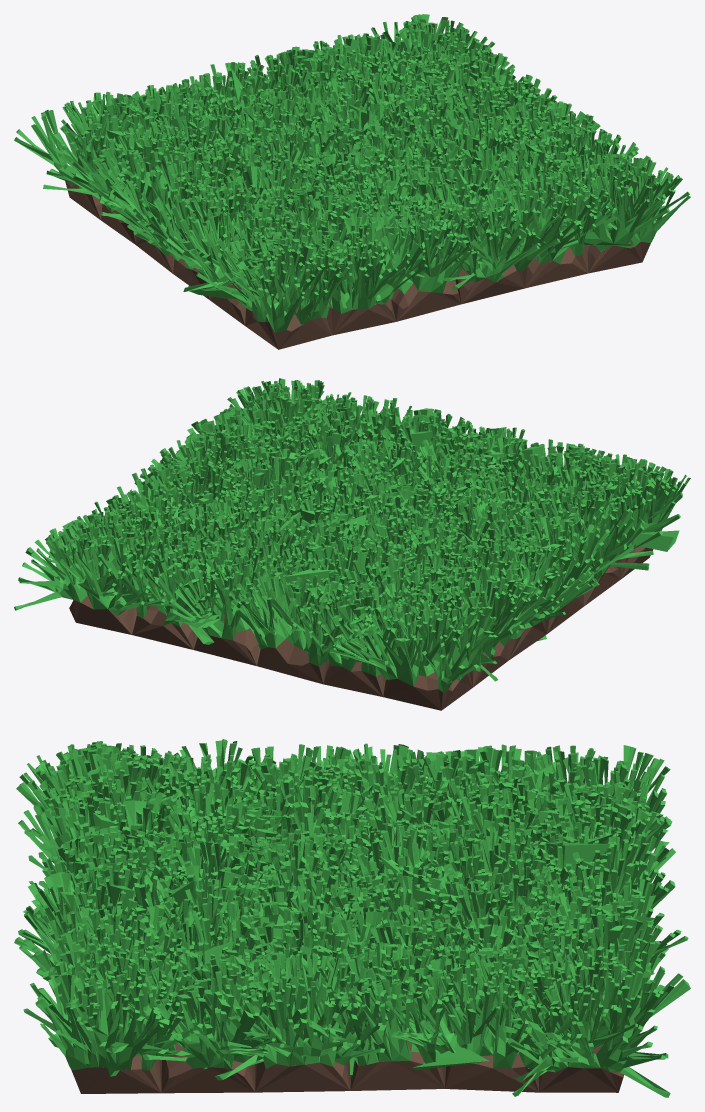
Rendered from LowGrass.glb.
3 views of the same model, one above another, from view 1: azimuth 30°, elevation 25°; view 2: azimuth 150°, elevation 25°; view 3: azimuth 270°, elevation 25° (orthographic). The views are drawn at different scales.
Parts seen in each view (by area): view 1: Object_5, Object_7, Object_6, Object_8, Object_4; view 2: Object_7, Object_5, Object_6, Object_8, Object_4; view 3: Object_5, Object_7, Object_6, Object_8, Object_4.
Part boxes in pixels (x1=…): Object_5: x1=92, y1=33, x2=690, y2=288; Object_7: x1=15, y1=14, x2=690, y2=323; Object_6: x1=14, y1=14, x2=649, y2=332; Object_8: x1=43, y1=127, x2=430, y2=301; Object_4: x1=65, y1=172, x2=650, y2=349; Object_7: x1=15, y1=378, x2=690, y2=684; Object_5: x1=58, y1=378, x2=563, y2=667; Object_6: x1=14, y1=380, x2=689, y2=692; Object_8: x1=420, y1=439, x2=648, y2=680; Object_4: x1=69, y1=545, x2=653, y2=710; Object_5: x1=14, y1=778, x2=674, y2=1079; Object_7: x1=17, y1=741, x2=690, y2=1097; Object_6: x1=14, y1=740, x2=690, y2=1097; Object_8: x1=18, y1=739, x2=566, y2=870; Object_4: x1=72, y1=1041, x2=623, y2=1093.
Bounding box in the file's own units: 22.77 × 5.38 × 22.08.
